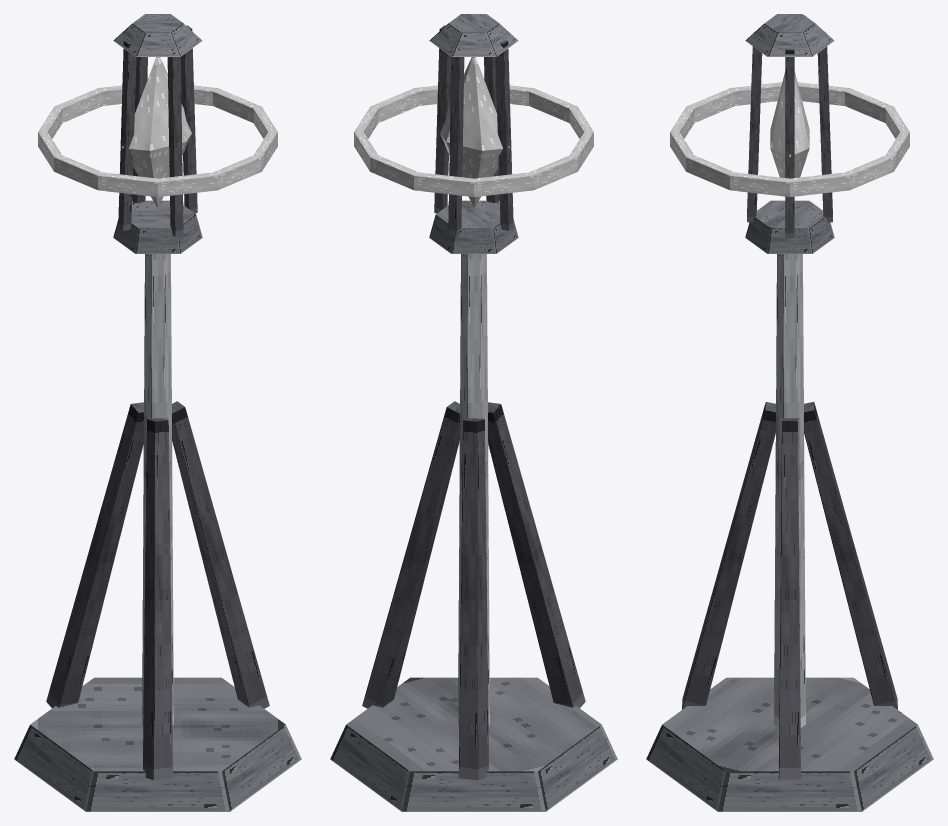
Rendered from prop_checkpoint.gltf.
The picture shows the model from 3 angles, left to right: view 1: azimuth 30°, elevation 25°; view 2: azimuth 150°, elevation 25°; view 3: azimuth 270°, elevation 25°; orthographic projection.
Parts seen in each view (by area): view 1: base, halo, lamp; view 2: base, halo, lamp; view 3: base, halo, lamp.
Boxes of the visible parts, x1,y1,x2,y2 form: base: [14, 14, 301, 811]; halo: [38, 85, 277, 196]; lamp: [122, 57, 191, 208]; base: [330, 14, 617, 811]; halo: [354, 85, 593, 196]; lamp: [440, 57, 509, 208]; base: [646, 14, 933, 811]; halo: [670, 82, 909, 196]; lamp: [770, 71, 809, 177].
Size of the model in its own units: 0.7794 by 2.54 by 0.9.
3 materials, 3 textured.
